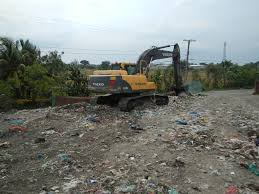excavator: (88, 44, 187, 112)
